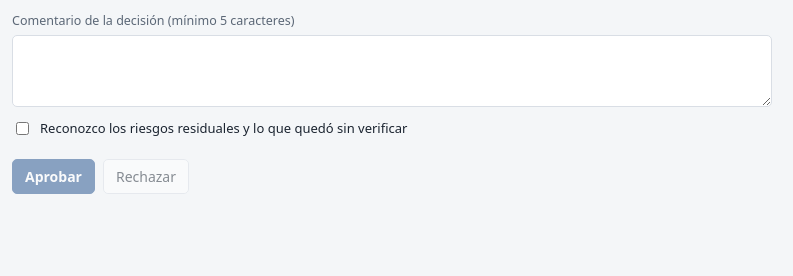
Scenario: formulario de decisión › muestra el rechazo por segregación de funciones y no da la acción por hecha
The width and height of the screenshot is (793, 276).
Type "Revisado el reporte" into the text box labelled "Comentario de la decisión (mínimo 5 caracteres)".
click(392, 71); type("Revisado el reporte")  # box [12,35,772,107]
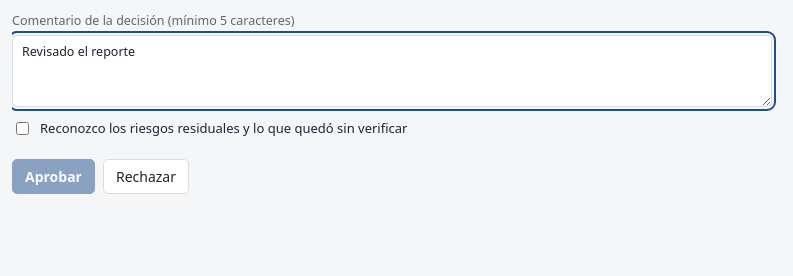
Click the checkbox labelled "Reconozco los riesgos residuales".
click(22, 129)  # box [16,122,29,135]
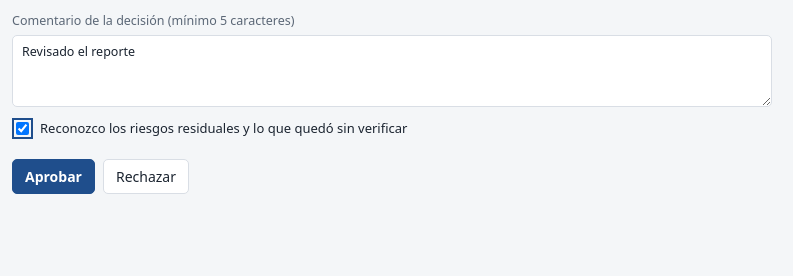
Click the button "Aprobar".
click(54, 176)  # box [12,158,95,194]
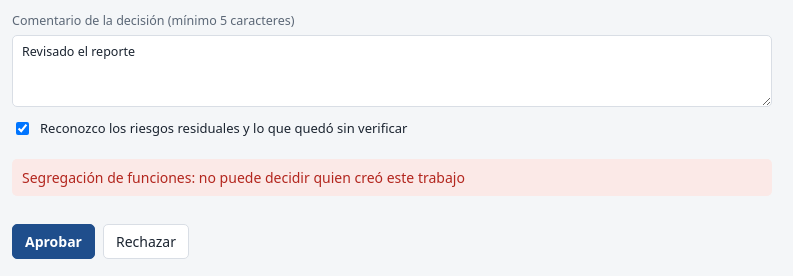
Expected: the message shows "Segregación de funciones", [22,168,465,186]
